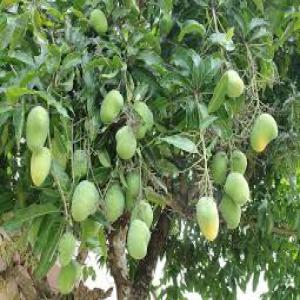Tree: (3, 0, 297, 296)
